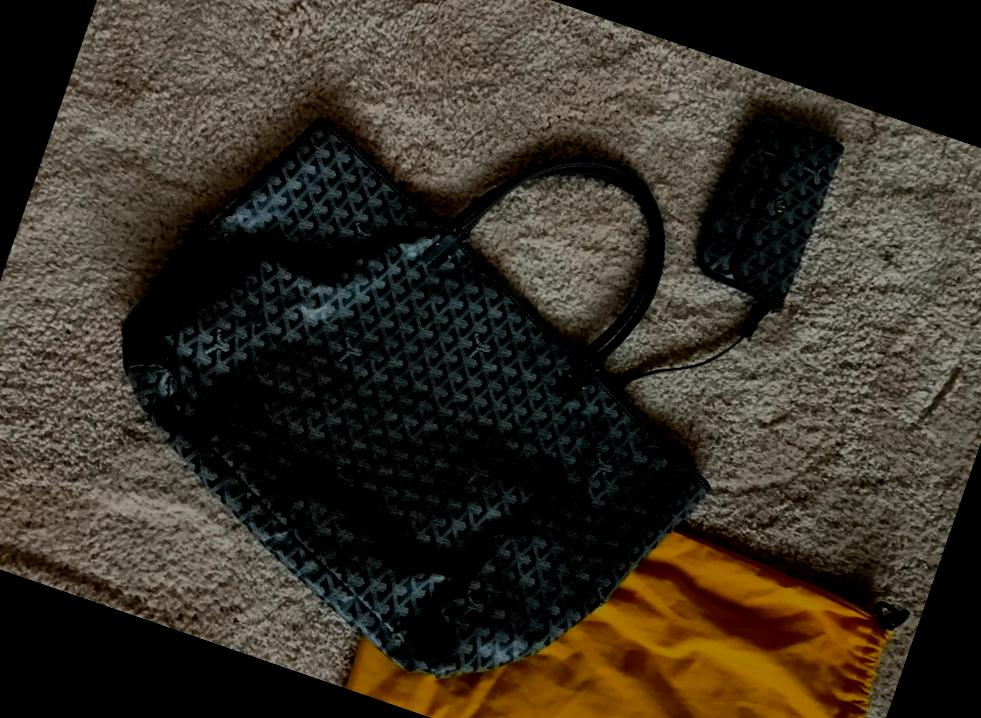GOYARD: (45, 82, 778, 718), (694, 112, 844, 302)
